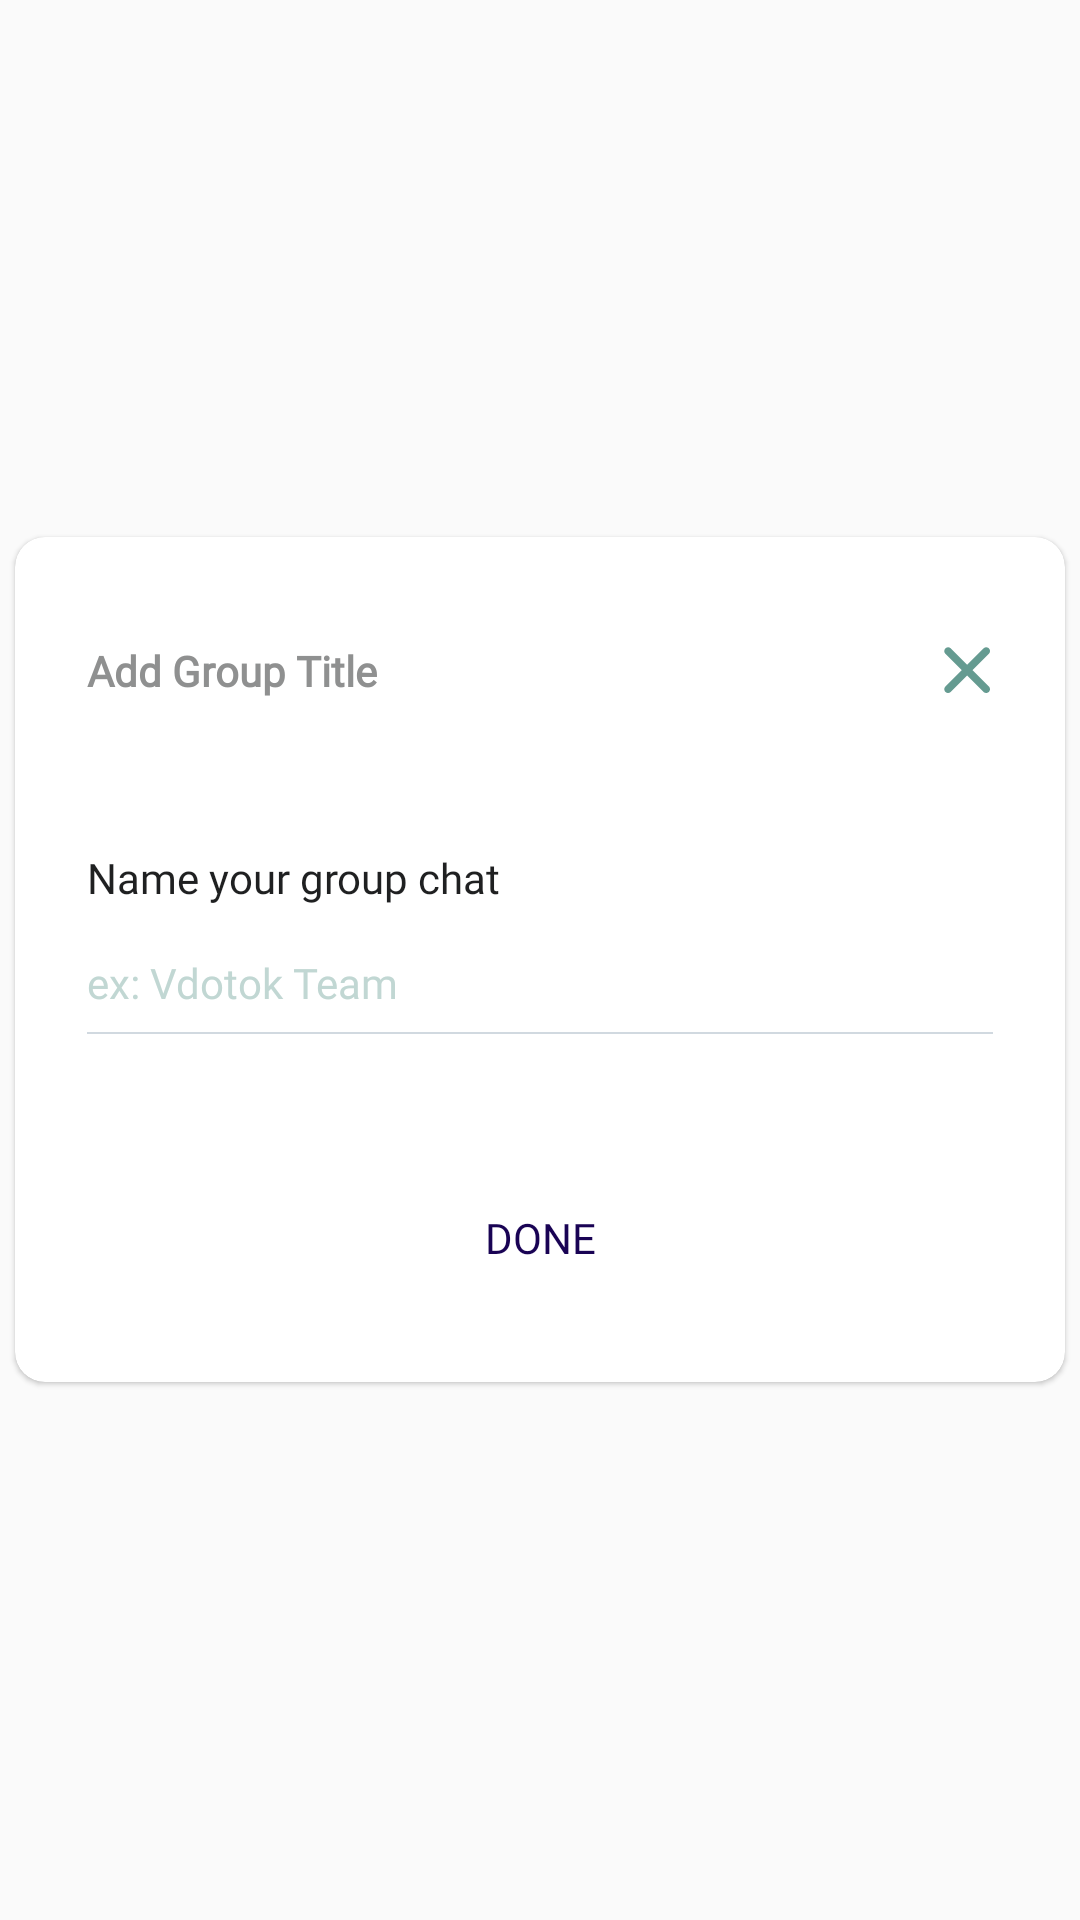

Icon bounding boxes for this 1080px x 1920px phone screenshot, format (x1, y1, x2, y2):
close: (944, 647, 990, 693)
